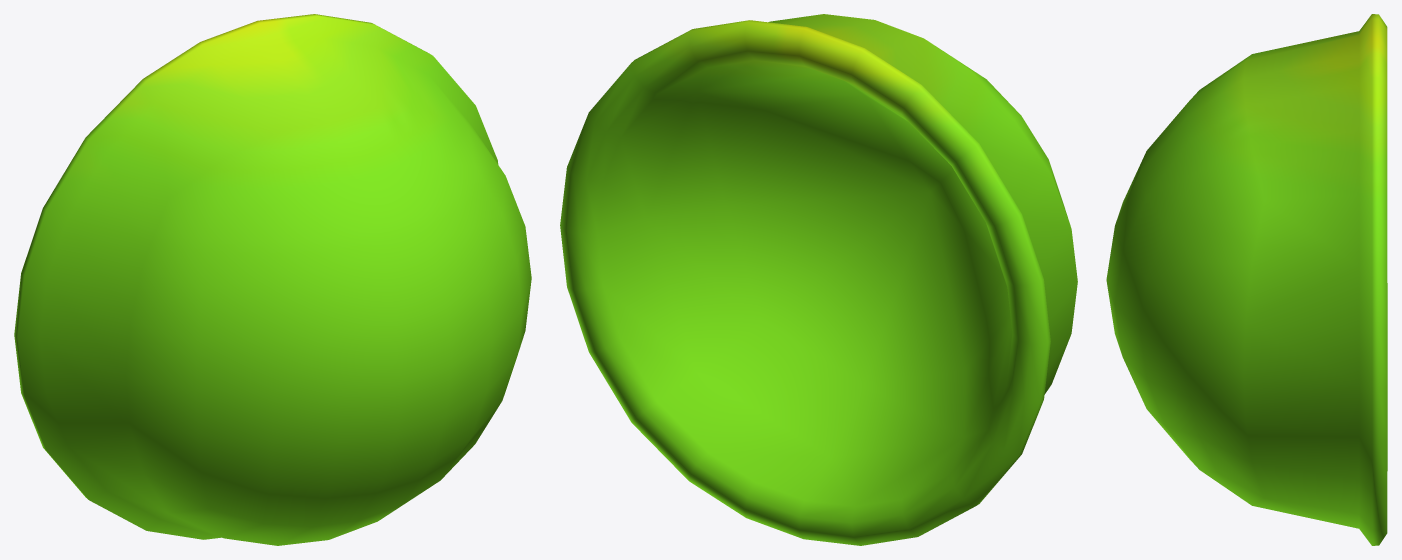
Rendered from Amongus02_Cut_021_0.FBX.
3 renders of one model, left to right at view 1: azimuth 30°, elevation 25°; view 2: azimuth 150°, elevation 25°; view 3: azimuth 270°, elevation 25°, orthographic. The views are drawn at different scales.
Parts seen in each view (by area): view 1: Amongus02_Cut_021_0; view 2: Amongus02_Cut_021_0; view 3: Amongus02_Cut_021_0.
Part boxes in pixels (<box>): Amongus02_Cut_021_0: <box>14,14,531,545</box>; Amongus02_Cut_021_0: <box>560,14,1077,545</box>; Amongus02_Cut_021_0: <box>1106,14,1387,545</box>.
Size of the model in its own units: 0.7584 by 0.4 by 0.7584.
